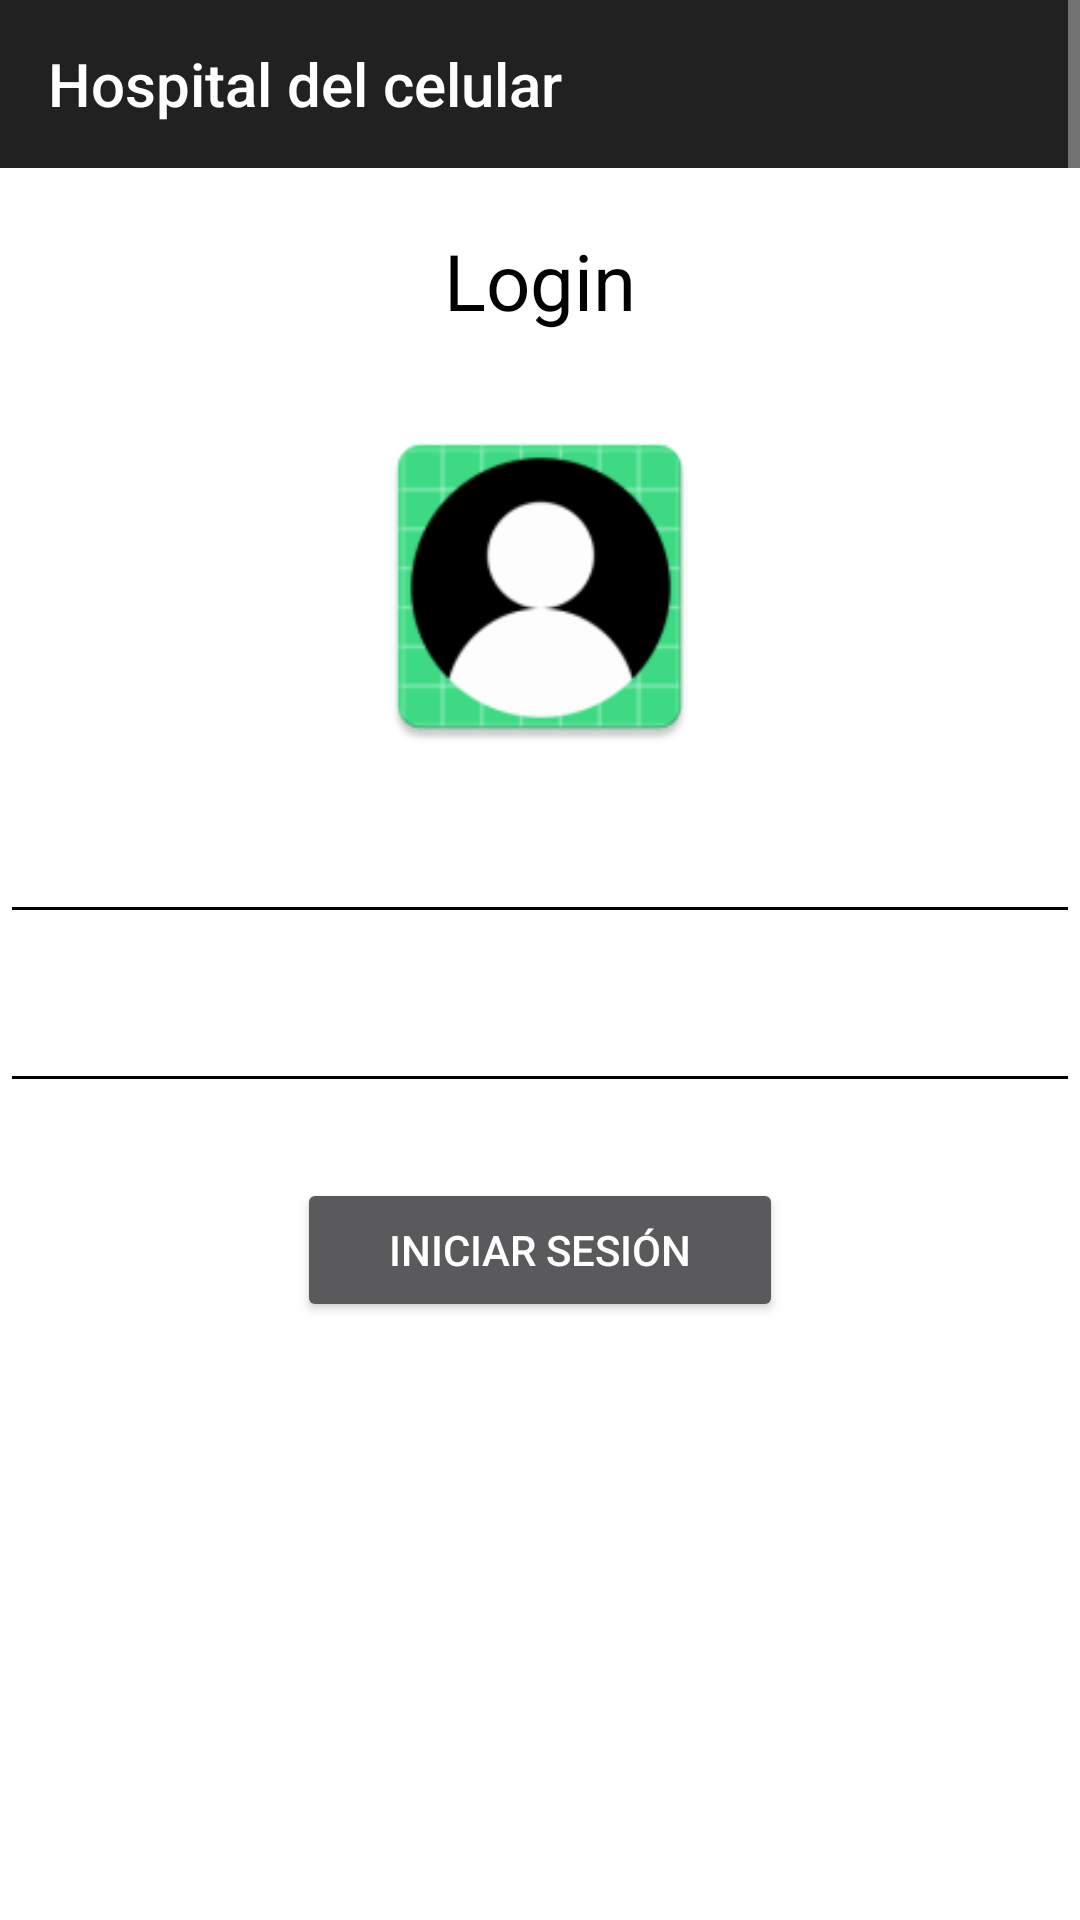

Screen size 1080px x 1920px. Icon name, then its box in pixels as BBox(x1, y1, x2, y2):
user: BBox(396, 444, 684, 737)
